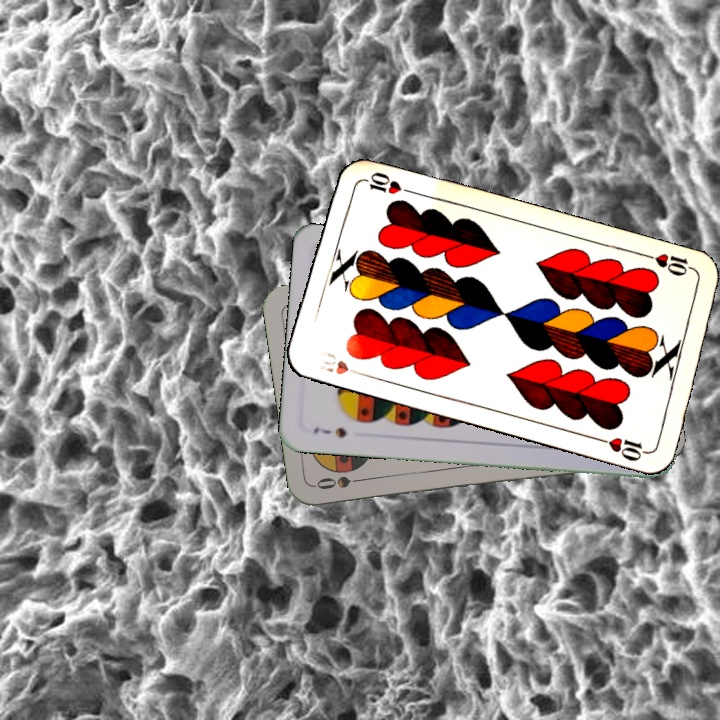H10: (641, 249, 699, 279), (313, 348, 368, 379)
S7: (309, 423, 349, 441)
SO: (312, 471, 371, 492)
